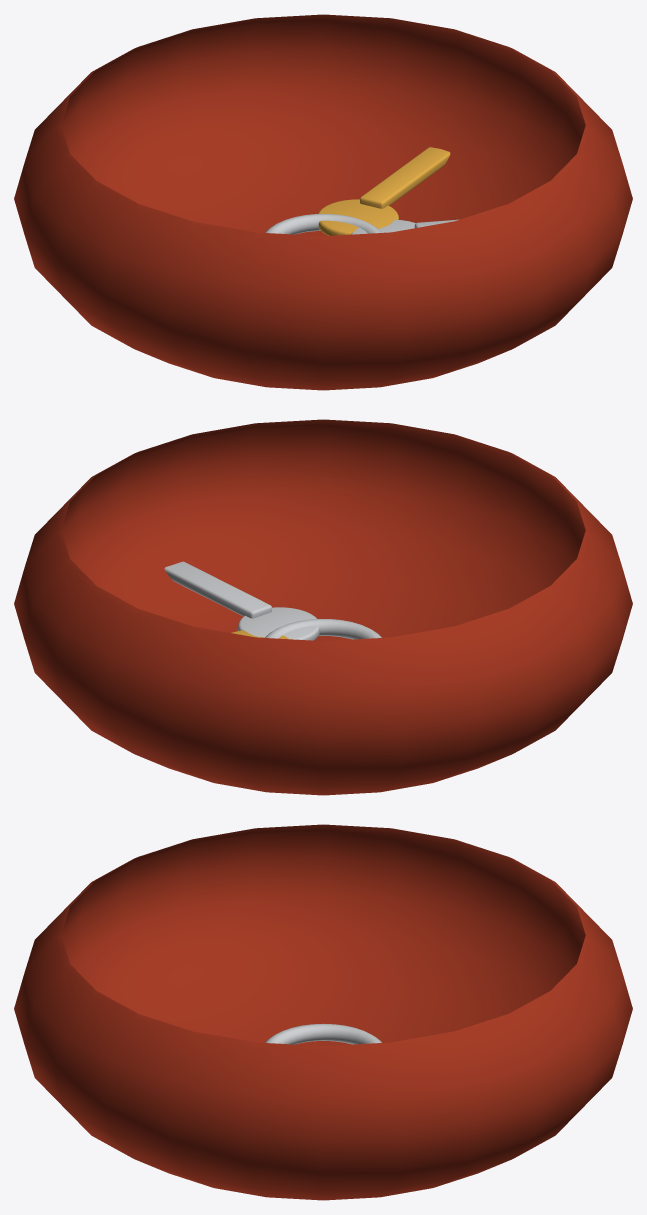
File: key_bowl.glb
3 renders of one model, top to bottom at view 1: azimuth 30°, elevation 25°; view 2: azimuth 150°, elevation 25°; view 3: azimuth 270°, elevation 25°, orthographic.
Visible parts, largest first — view 1: key_bowl; view 2: key_bowl; view 3: key_bowl.
Part boxes in pixels (x1,y1,x2,y2): key_bowl: (14, 14, 632, 390); key_bowl: (14, 419, 632, 795); key_bowl: (14, 824, 632, 1200).
Size of the model in its own units: 0.18 by 0.0686 by 0.18.
